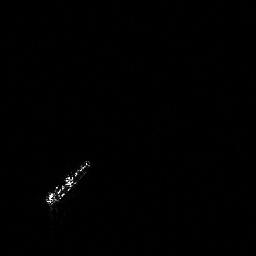ship: (42, 156, 94, 208)
